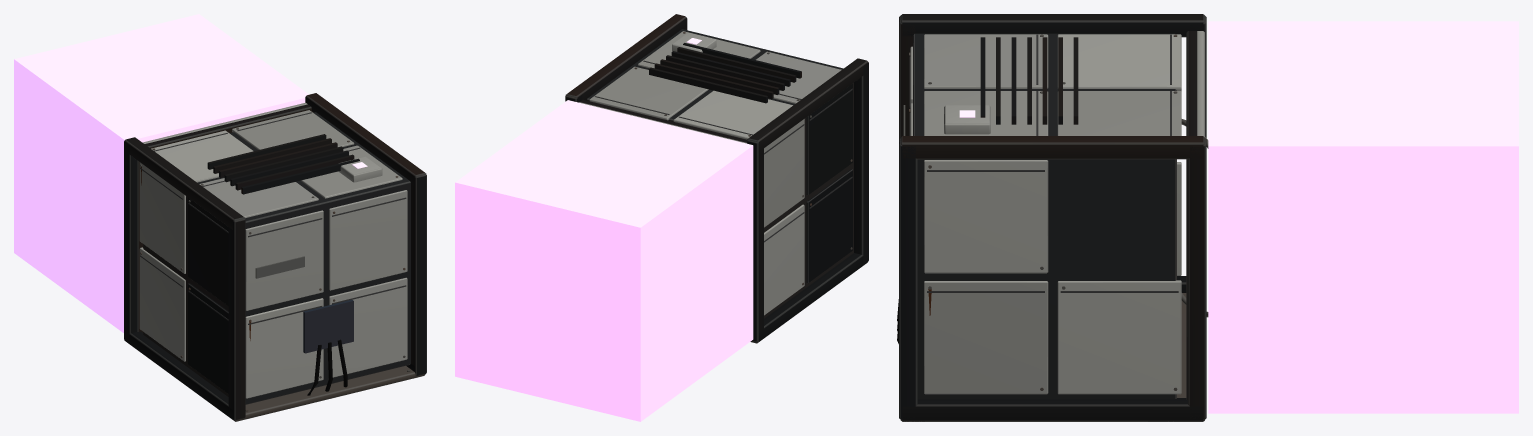
File: antigrav_projector.glb
3 views of the same model, side by side, from view 1: azimuth 30°, elevation 25°; view 2: azimuth 150°, elevation 25°; view 3: azimuth 270°, elevation 25° (orthographic). The views are drawn at different scales.
Parts seen in each view (by area): view 1: Frame, Field; view 2: Field, Frame; view 3: Frame, Field.
Boxes of the visible parts, x1,y1,x2,y2 form: Frame: (124,93,426,421); Field: (14,14,308,332); Field: (455,100,753,421); Frame: (565,14,868,343); Frame: (897,14,1206,421); Field: (1208,21,1518,413).
Bounding box in the file's own units: 1.98 × 2 × 4.
